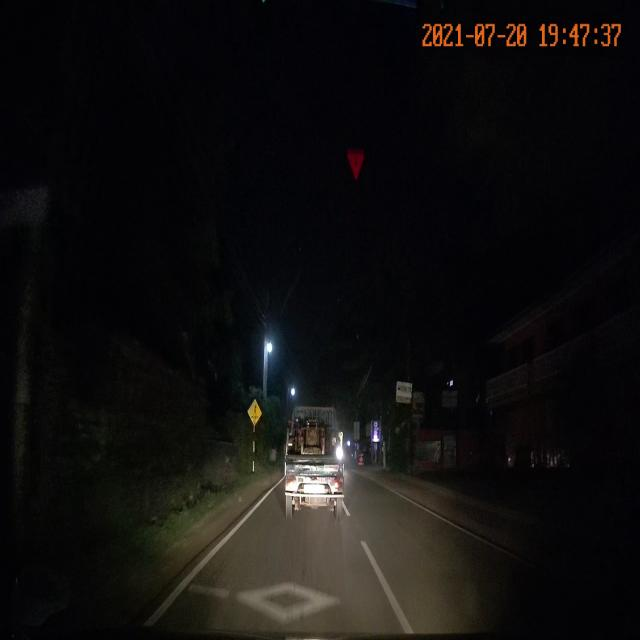Romb: (234, 578, 344, 626)
